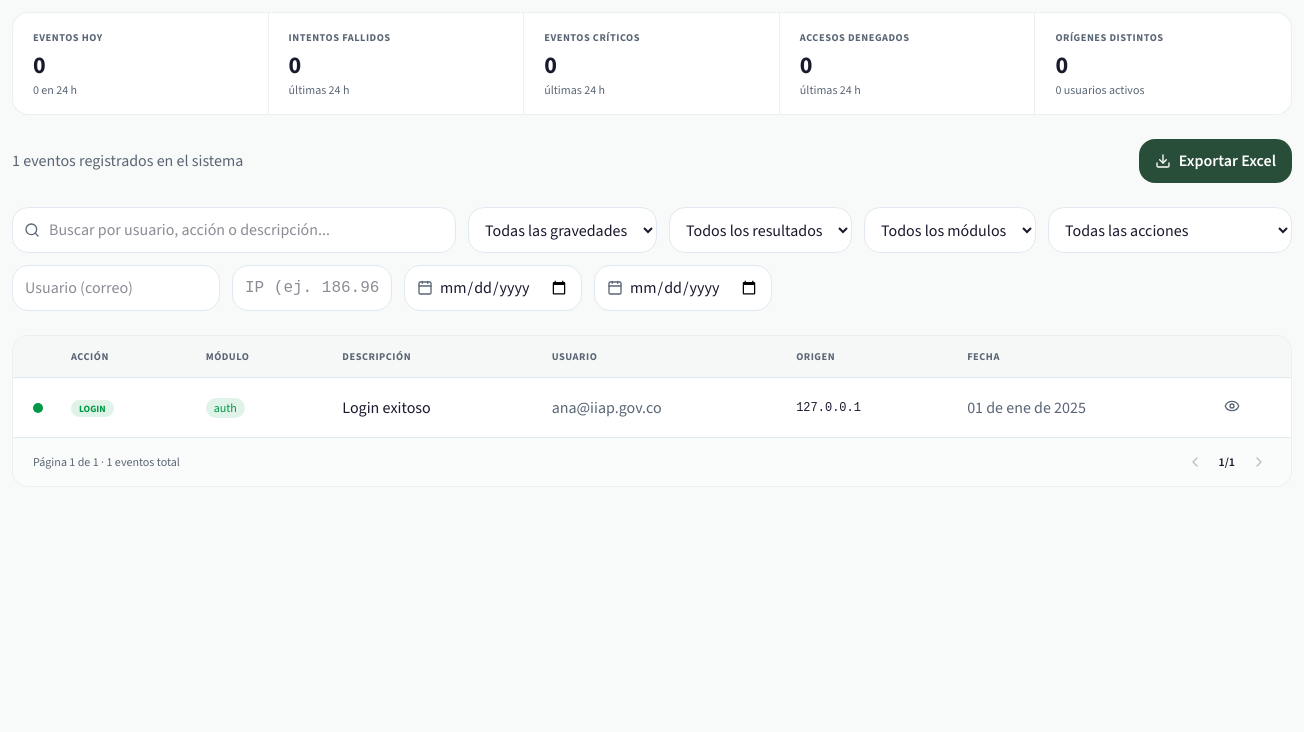
AuditoriaTab — exportar Excel › un fallo al exportar muestra un mensaje de error
The width and height of the screenshot is (1304, 732).
Expected: the cell "Login" is shown, left=51, top=378, right=186, bottom=437
Click the button "Exportar Excel" at (1215, 161), box left=1139, top=139, right=1292, bottom=183
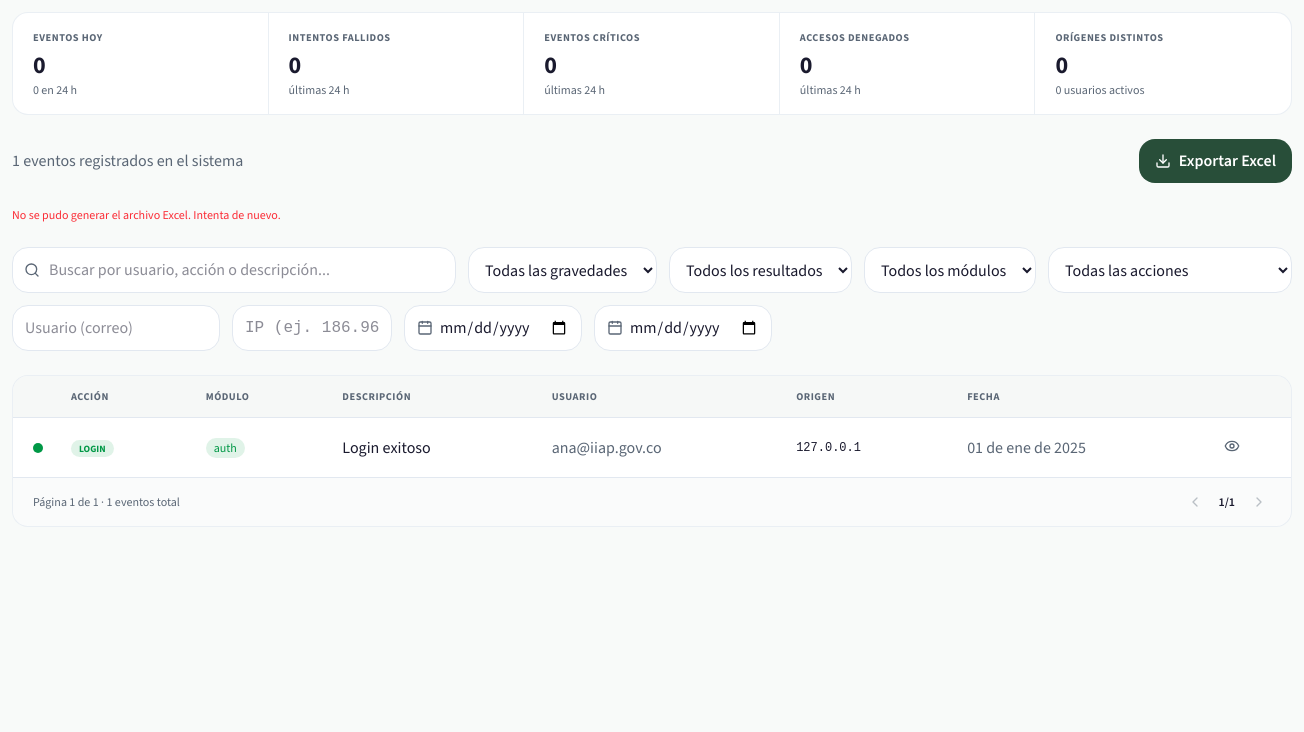
Expected: the text "No se pudo generar el archivo Excel. Intenta de nuevo." is shown, left=12, top=207, right=281, bottom=223
